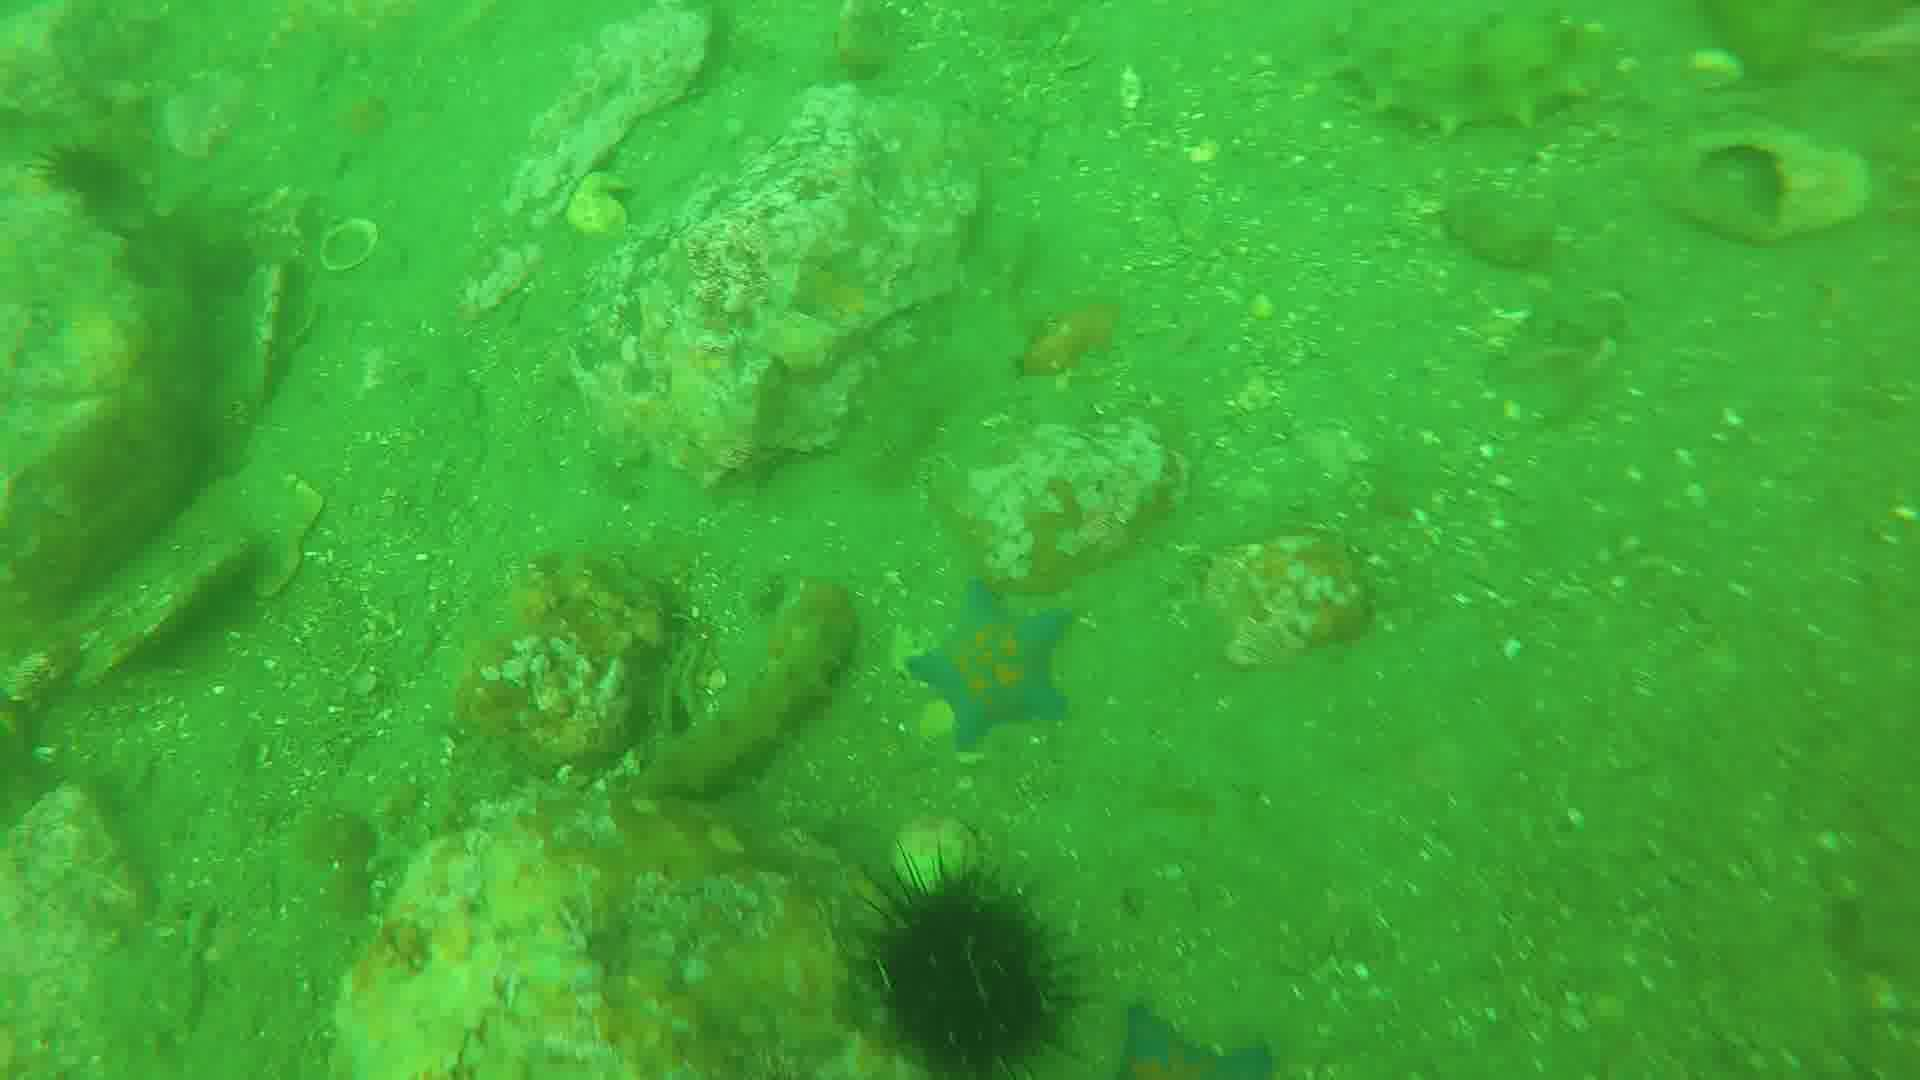echinus: (880, 873, 1058, 1080), (38, 146, 150, 227)
holothurian: (626, 592, 861, 802), (1329, 1, 1592, 135)
starfish: (902, 591, 1092, 746), (1076, 1004, 1276, 1080)
